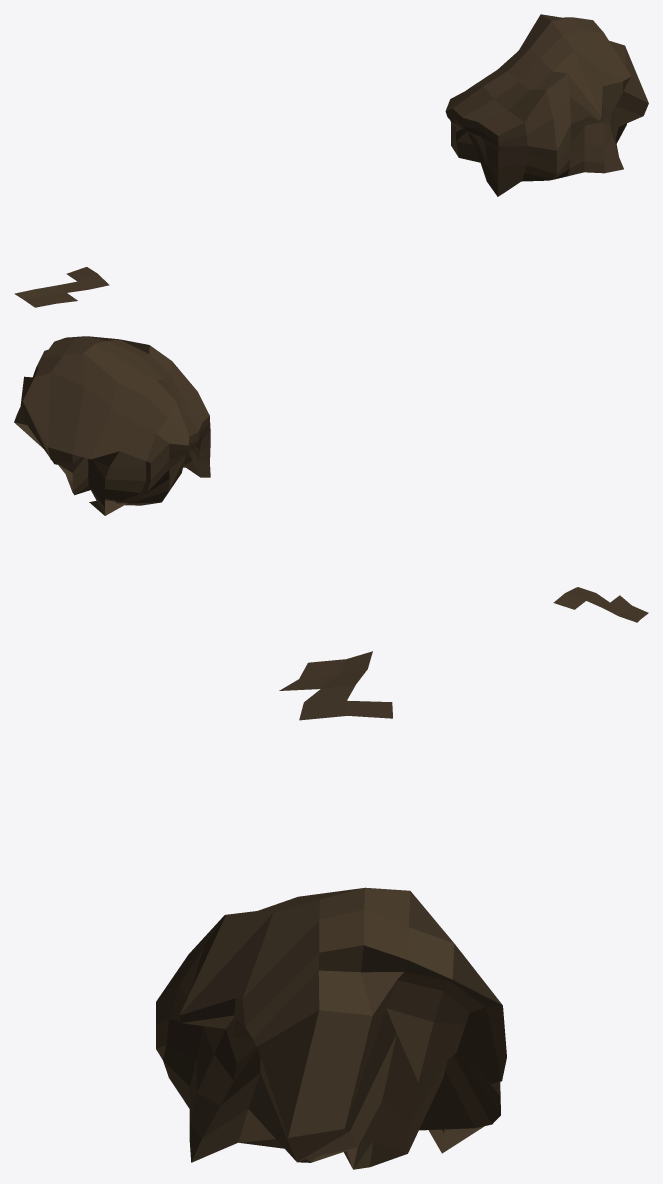
The model's file is Rock.fbx.
The picture shows the model from 3 angles, top to bottom: view 1: azimuth 30°, elevation 25°; view 2: azimuth 150°, elevation 25°; view 3: azimuth 270°, elevation 25°; orthographic projection. The views are drawn at different scales.
Visible parts, largest first — view 1: Cylinder.003; view 2: Cylinder.003; view 3: Cylinder.003.
Part boxes in pixels (x1,y1,x2,y2): Cylinder.003: (14,14,648,307); Cylinder.003: (14,336,648,622); Cylinder.003: (156,651,506,1169).
Bounding box in the file's own units: 5896 × 1334 × 1448.
